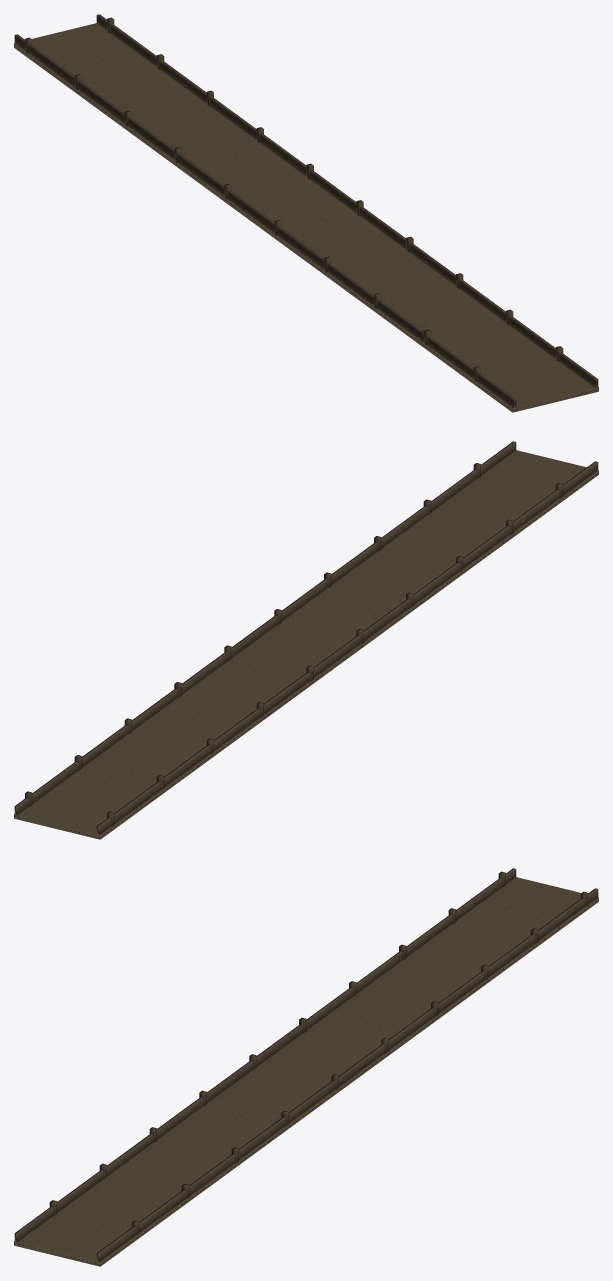
Rendered from bridge.glb.
The picture shows the model from 3 angles, top to bottom: view 1: azimuth 30°, elevation 25°; view 2: azimuth 150°, elevation 25°; view 3: azimuth 330°, elevation 25°; orthographic projection.
Visible parts, largest first — view 1: bridge; view 2: bridge; view 3: bridge.
Part boxes in pixels (x1,y1,x2,y2): bridge: (14,14,598,412); bridge: (14,441,598,839); bridge: (14,868,598,1266).
Bounding box in the file's own units: 20.1 × 3.8 × 200.
Materials: 1 (1 with a texture image).
